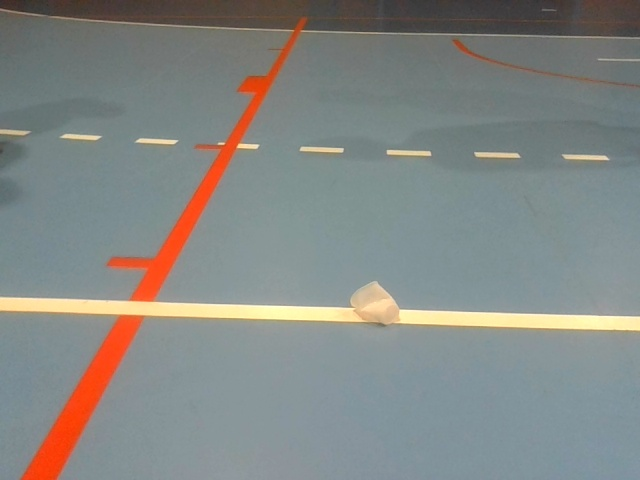plasticcup: (350, 280, 400, 326)
